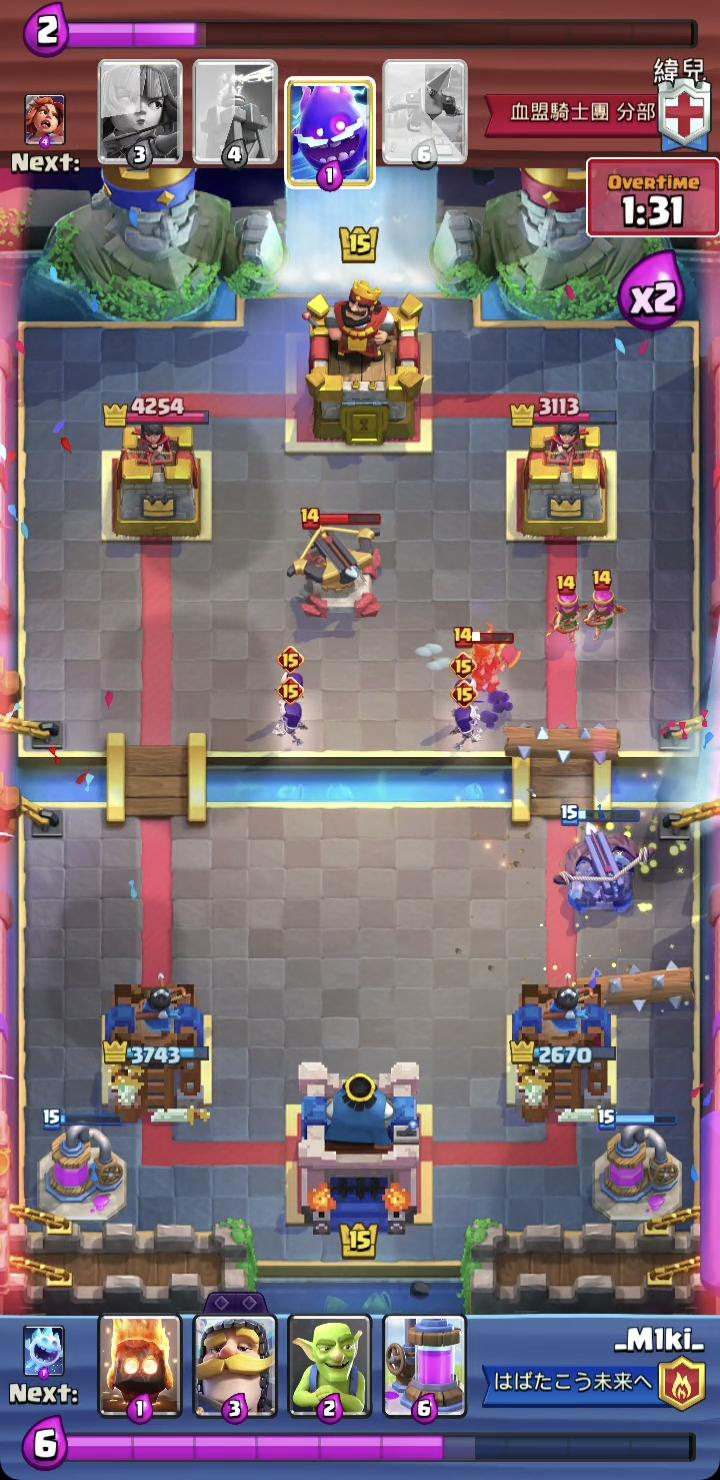ally_elixirpump: (592, 1106, 686, 1226), (35, 1109, 132, 1225)
ally_xbow: (558, 803, 660, 913)
enemy_archer: (577, 567, 629, 642), (544, 571, 588, 645)
enemy_log: (570, 961, 701, 1011)
enemy_skeleton_evo: (271, 674, 309, 747), (274, 646, 308, 710), (448, 678, 479, 747), (448, 646, 480, 712)
enemy_valkyrie: (452, 626, 522, 705)
enemy_xbow: (290, 506, 388, 622)
